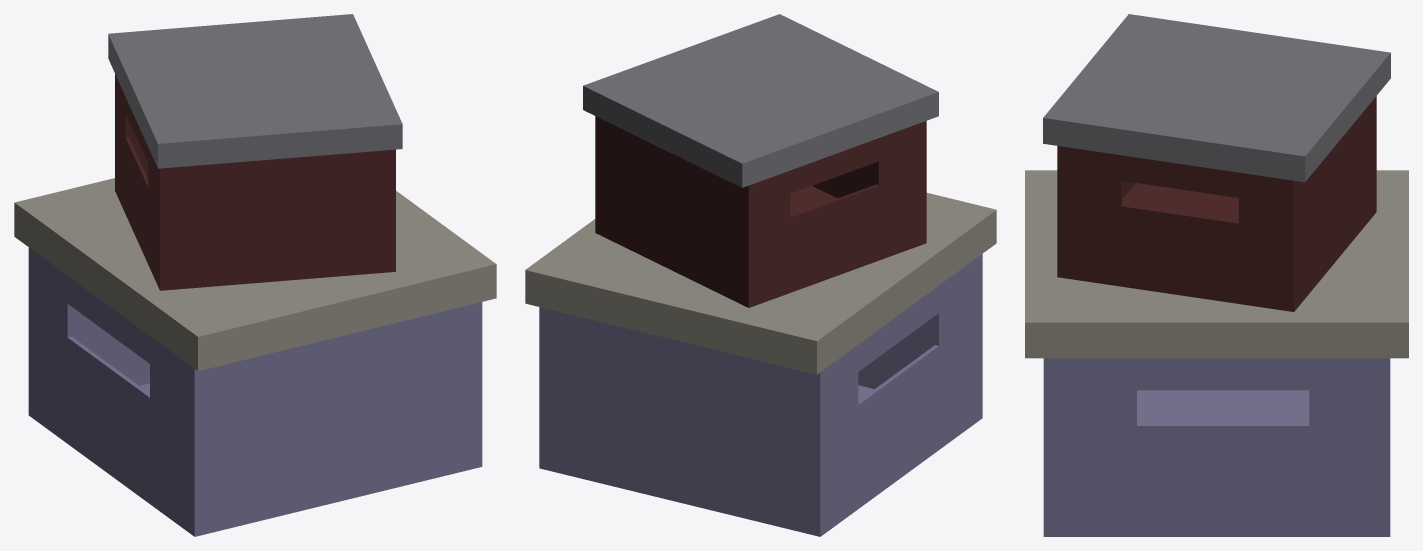
The model's file is colored boxes deskroom2.fbx.
3 renders of one model, left to right at view 1: azimuth 30°, elevation 25°; view 2: azimuth 150°, elevation 25°; view 3: azimuth 270°, elevation 25°, orthographic. The views are drawn at different scales.
Visible parts, largest first — view 1: pCube1, pCube2, pCube3, pCube4; view 2: pCube1, pCube4, pCube3, pCube2; view 3: pCube1, pCube4, pCube3, pCube2.
Part boxes in pixels (x1=…): pCube1: x1=28, y1=247, x2=482, y2=536; pCube2: x1=14, y1=178, x2=496, y2=370; pCube3: x1=108, y1=14, x2=402, y2=168; pCube4: x1=115, y1=74, x2=395, y2=290; pCube1: x1=539, y1=254, x2=982, y2=536; pCube4: x1=595, y1=116, x2=926, y2=307; pCube3: x1=583, y1=14, x2=938, y2=187; pCube2: x1=525, y1=193, x2=996, y2=374; pCube1: x1=1043, y1=358, x2=1390, y2=536; pCube4: x1=1057, y1=96, x2=1376, y2=311; pCube3: x1=1043, y1=14, x2=1390, y2=182; pCube2: x1=1025, y1=170, x2=1408, y2=358.
Bounding box in the file's own units: 0.9301 × 1.08 × 0.9914.
